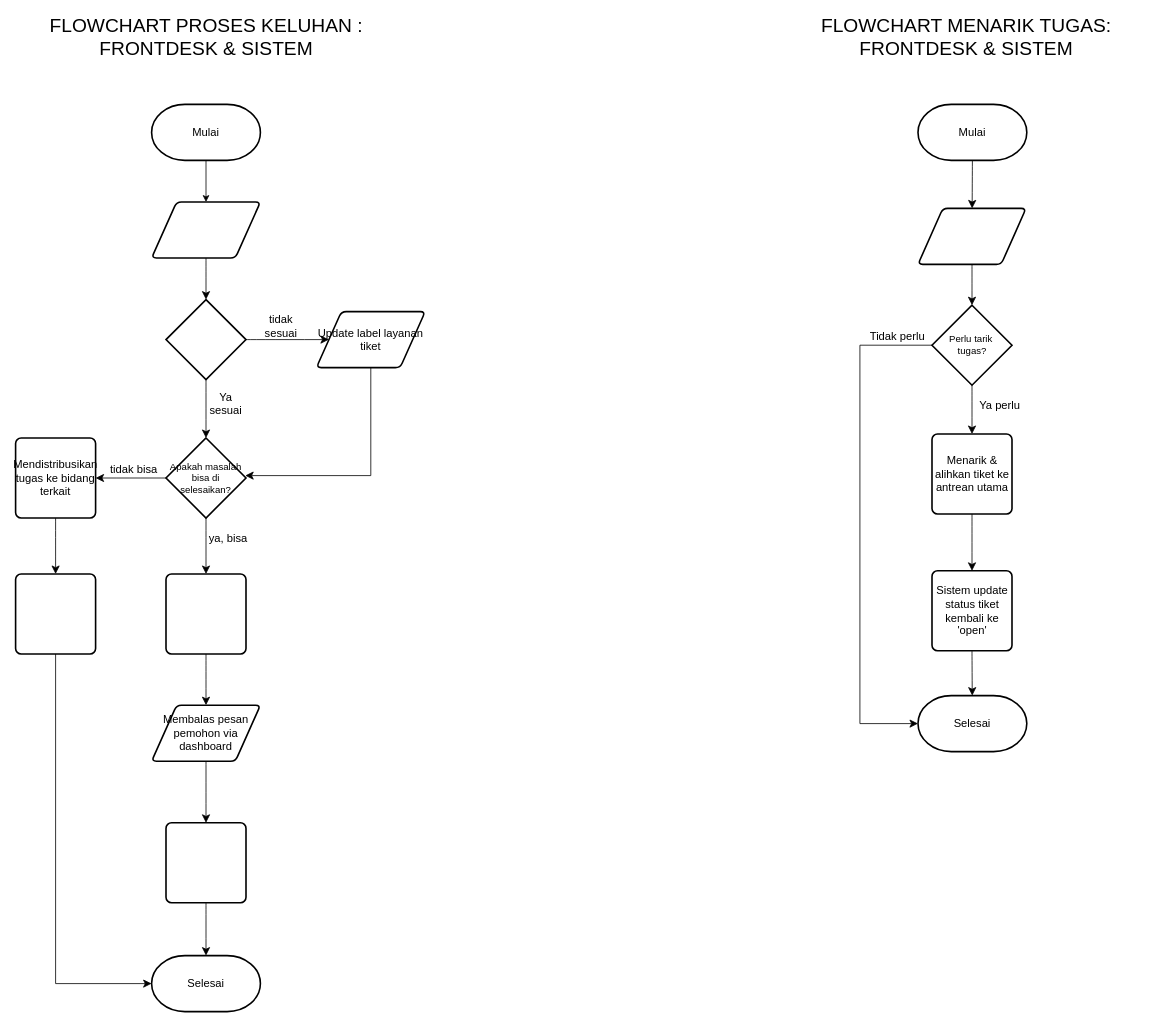
The diagram is 1157 pixels wide and 1026 high, and some of its shapes have lost their labels. The shapes that lost their labels are listed below. From the top down, each one's centre as x and y in pixels, then its label:
At point (205, 229): "Melihat dashboard antrean & detail tiket".
At point (971, 236): "Melihat dashboard staf bidang".
At point (205, 339): "Apakah jenis layanan/label sesuai?".
At point (55, 613): "Sistem update status & kirim notifikasi".
At point (205, 613): "Mengerjakan & menyelesaikan tugas".
At point (205, 862): "Sistem menyimpan penyelesaian tiket".
